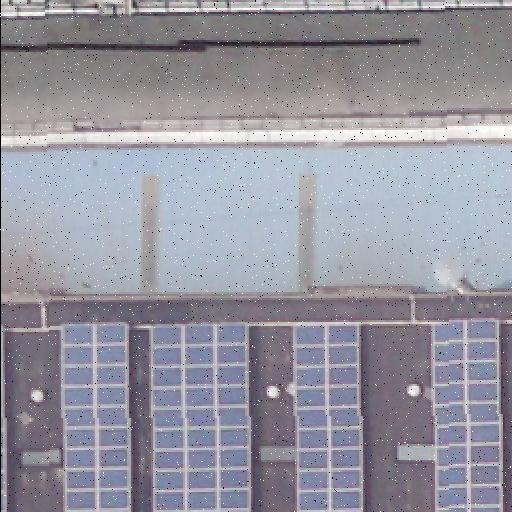solar-panel: (146, 324, 248, 512), (429, 313, 504, 512), (289, 320, 366, 512), (58, 316, 132, 512)
